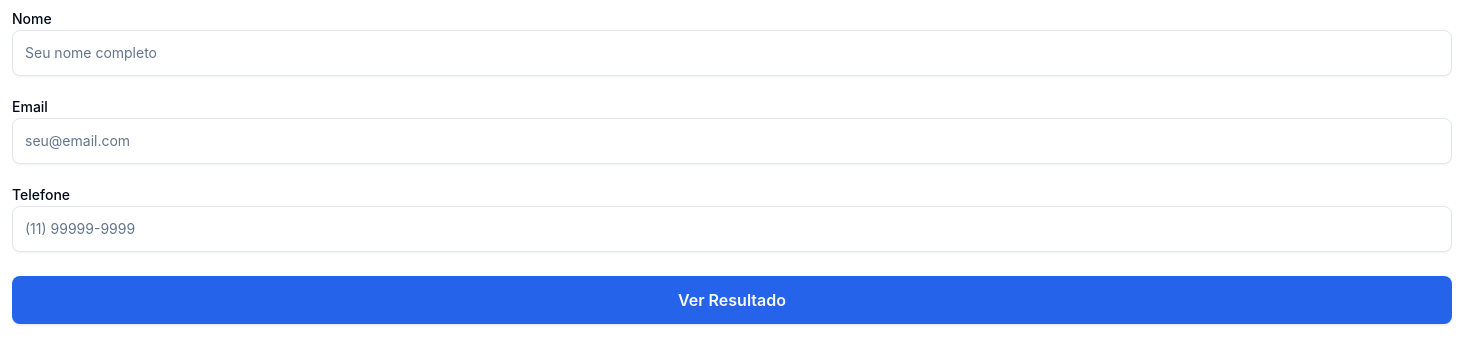
LeadForm › should format phone with mask while typing
The image size is (1464, 342).
Type "119" into the field labelled "Telefone" at point(732, 229), box [12,206,1452,252]
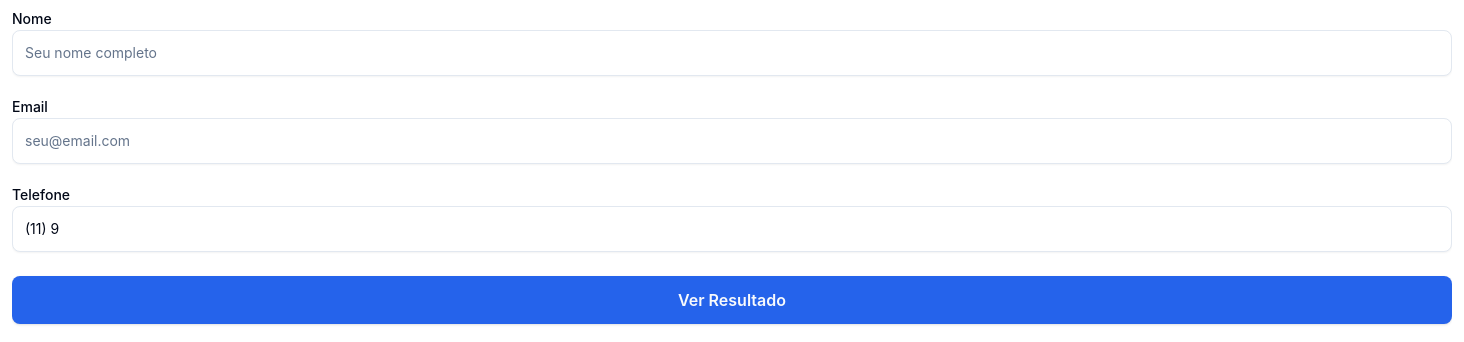
Check: the field labelled "Telefone" holds "(11) 9"
Replace the text in the field labelled "Telefone" with "11999999999" at point(732, 229), box [12,206,1452,252]
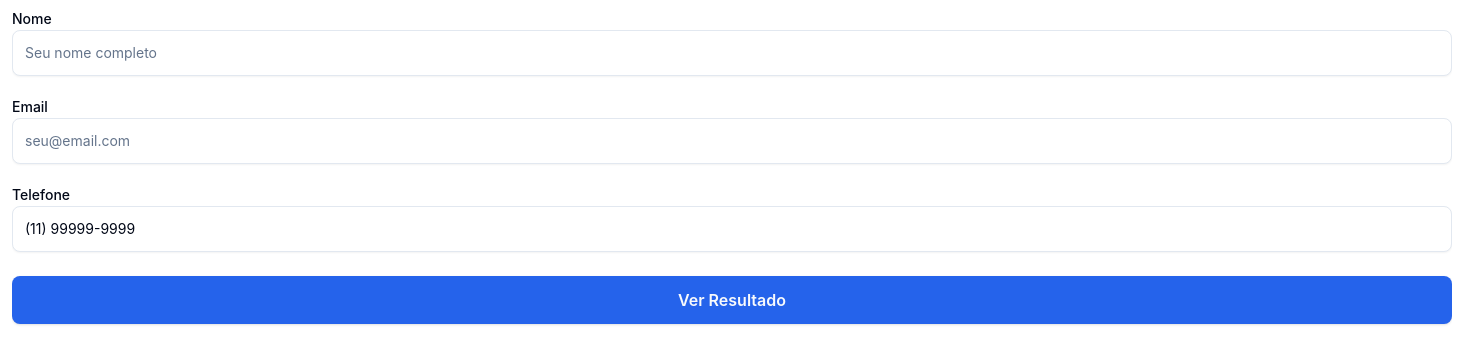
Check: the field labelled "Telefone" holds "(11) 99999-9999", box [12,206,1452,252]
